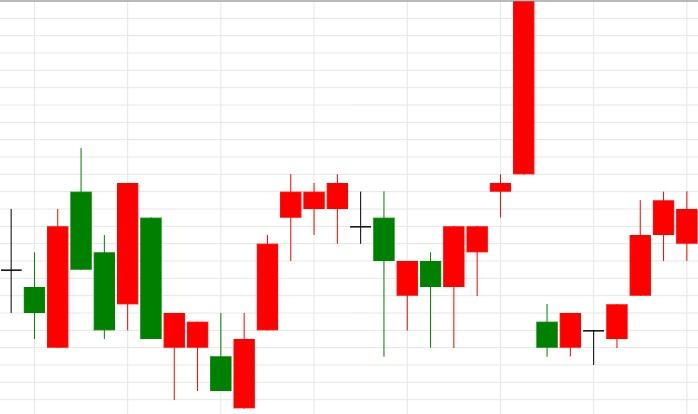bullish_engulfing_rise: (116, 182, 256, 409)
hammer_rise: (327, 173, 443, 357)
